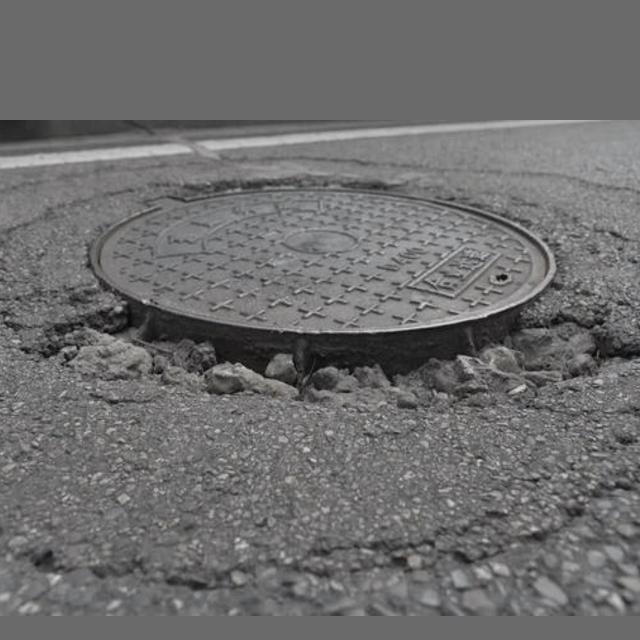circle: (0, 168, 640, 436)
